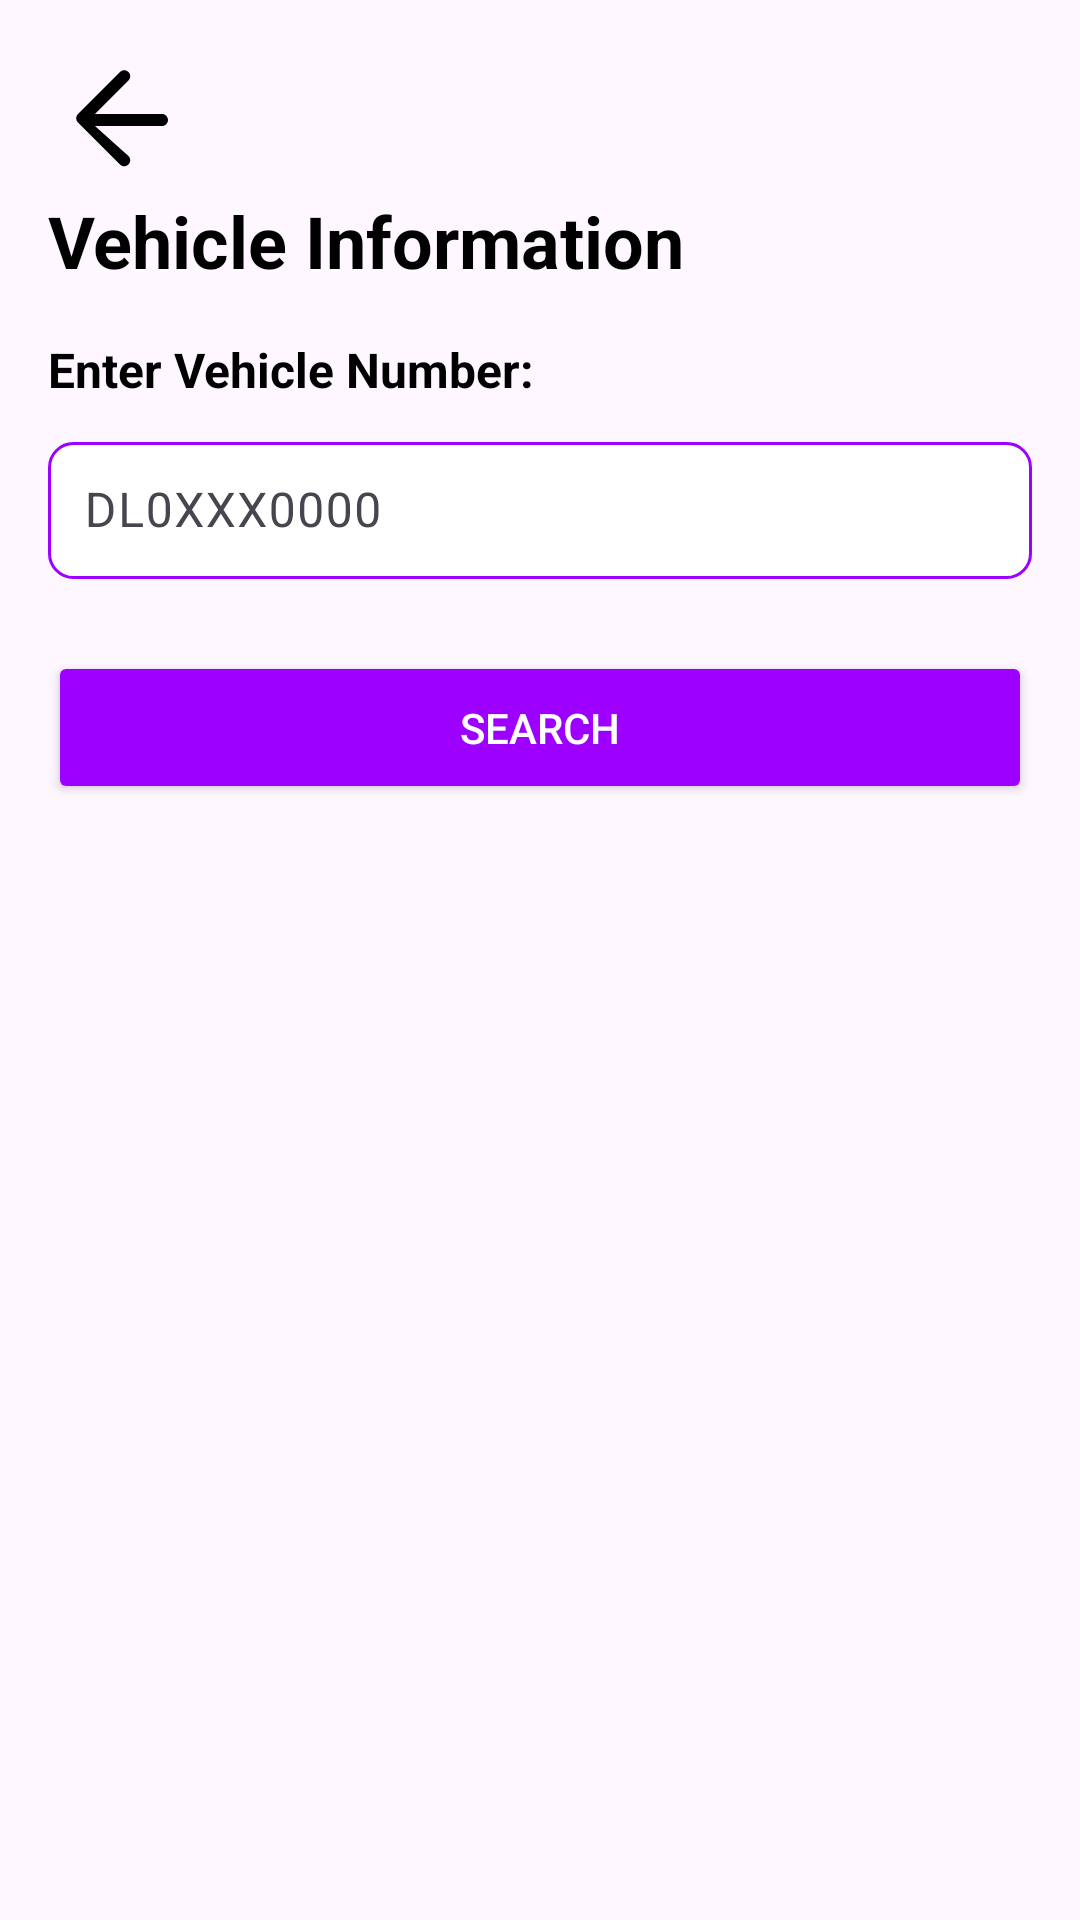

Icons on this 1080px x 1920px Android screen, each with the point to tap as [x,y]:
Back: [122,118]
